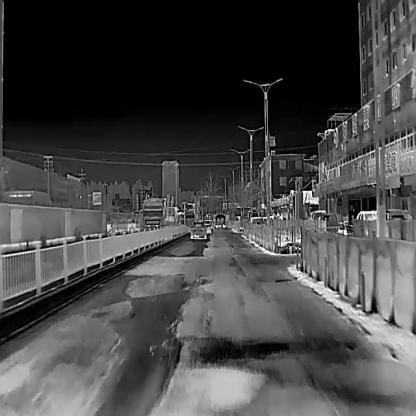car: (355, 210, 380, 237), (318, 213, 338, 234), (191, 220, 206, 240), (308, 209, 326, 221), (215, 213, 226, 228), (282, 213, 286, 231)
truck: (142, 198, 176, 229), (184, 209, 195, 226)
